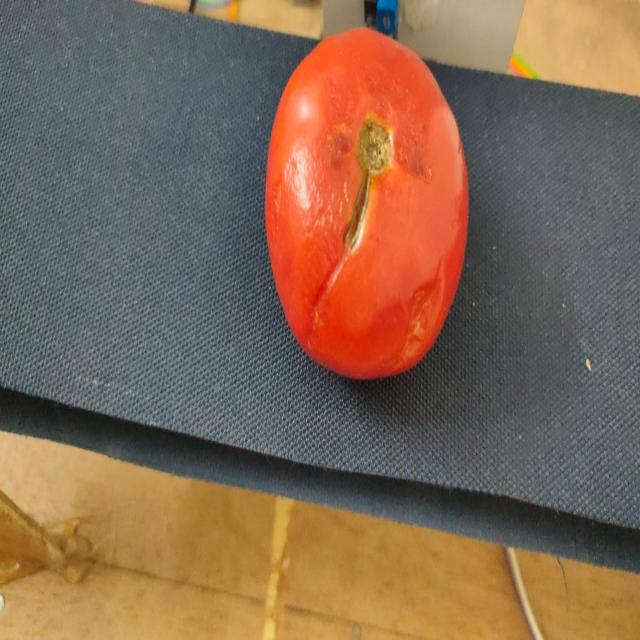overripe tomato: (266, 21, 466, 374)
